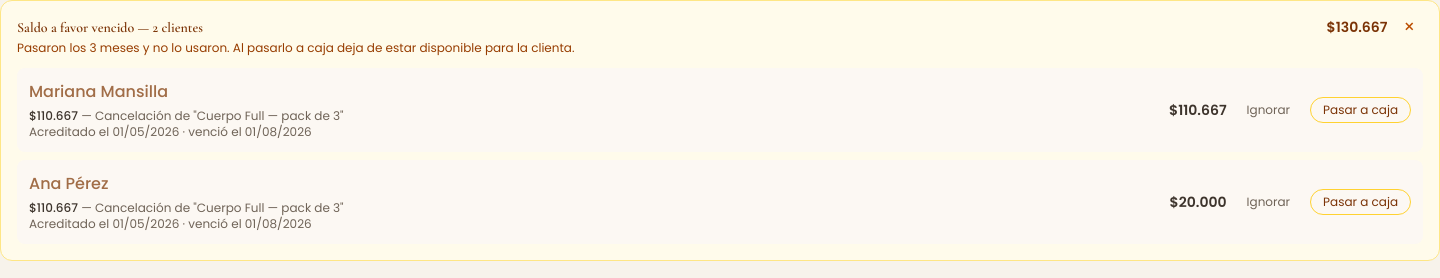
Test: SaldosVencidosAviso › ignorar el aviso › ignorar una no esconde a las demás
Expected: the link "Ana Pérez" is shown, [29,172,108,195]
Click the button "Ignorar" in the row of "Mariana Mansilla": [1268, 110] box [1235,98,1302,122]
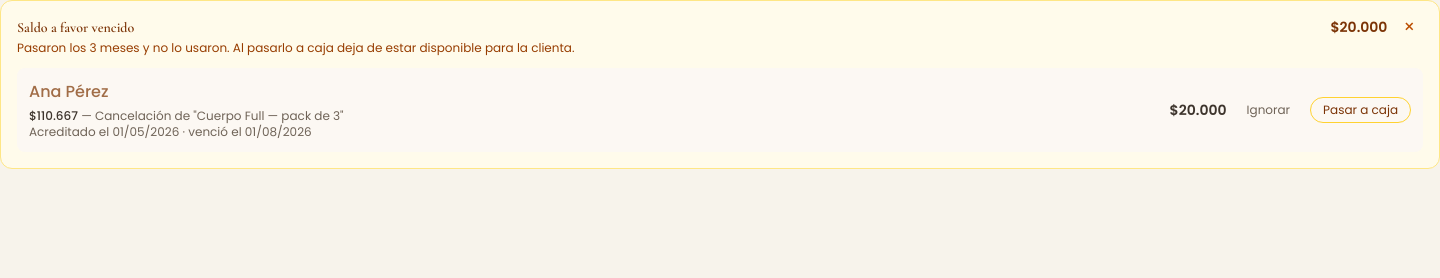
Expected: the link "Ana Pérez" is shown, [29,80,108,103]
Result: the link "Mariana Mansilla" is gone
